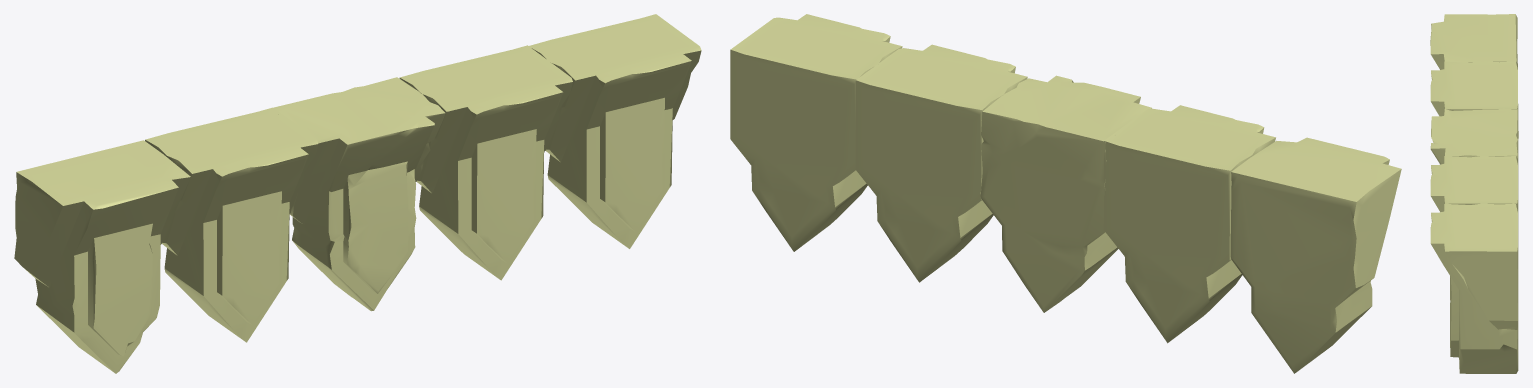
The model's file is stone_element_13_line_x5.fbx.
The picture shows the model from 3 angles, left to right: view 1: azimuth 30°, elevation 25°; view 2: azimuth 150°, elevation 25°; view 3: azimuth 270°, elevation 25°; orthographic projection. The views are drawn at different scales.
Parts seen in each view (by area): view 1: stone_element_13_line_x5_LOD0; view 2: stone_element_13_line_x5_LOD0; view 3: stone_element_13_line_x5_LOD0.
Part boxes in pixels (x1,y1,x2,y2): stone_element_13_line_x5_LOD0: (14,14,701,373); stone_element_13_line_x5_LOD0: (730,14,1401,373); stone_element_13_line_x5_LOD0: (1430,14,1518,373).
Bounding box in the file's own units: 462 × 132 × 72.19.
